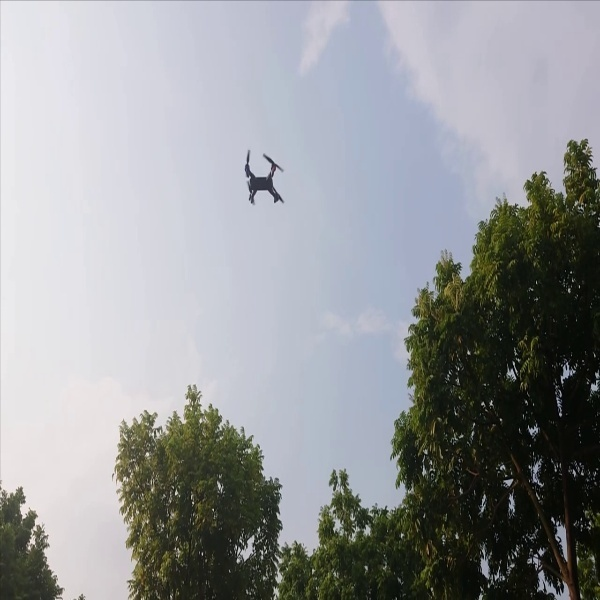drone: (231, 140, 295, 212)
